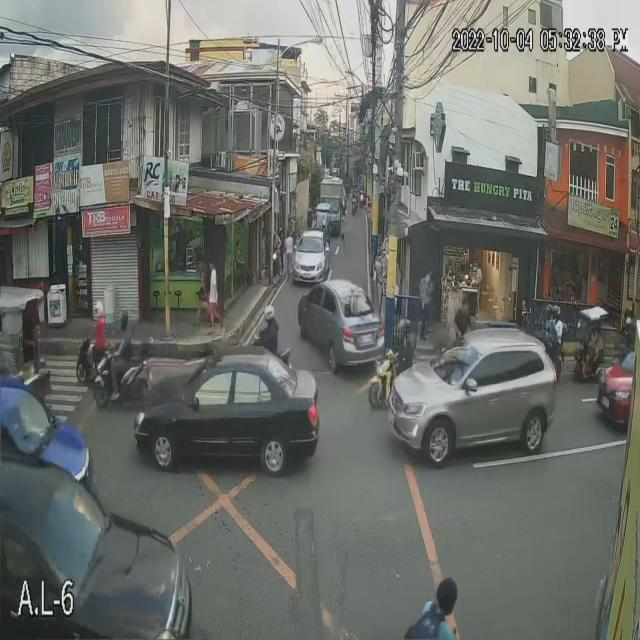full: (262, 303, 275, 324), (92, 301, 104, 320)
